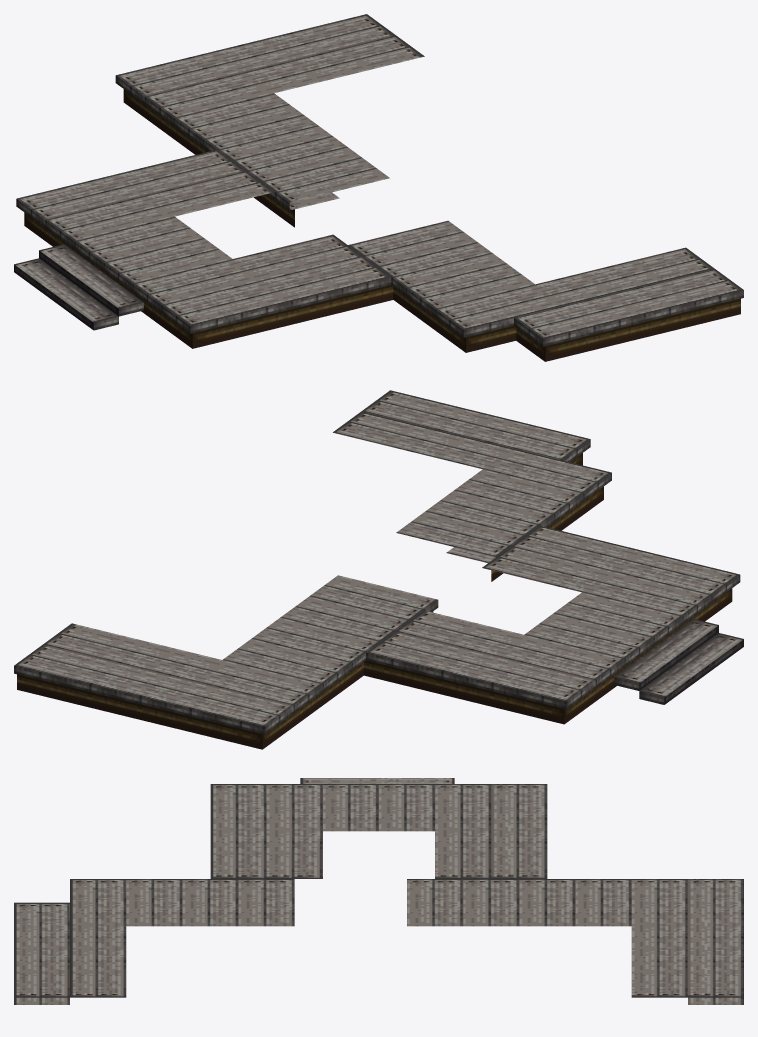
Rendered from EnvBdgMD_Wilderness_A_Outdoor_A_Base.FBX.
3 views of the same model, one above another, from view 1: azimuth 30°, elevation 25°; view 2: azimuth 150°, elevation 25°; view 3: azimuth 270°, elevation 25° (orthographic). The views are drawn at different scales.
Parts seen in each view (by area): view 1: EnvBdgMD_Wilderness_A_Outdoor_A_Base; view 2: EnvBdgMD_Wilderness_A_Outdoor_A_Base; view 3: EnvBdgMD_Wilderness_A_Outdoor_A_Base.
Part boxes in pixels (x1,y1,x2,y2): EnvBdgMD_Wilderness_A_Outdoor_A_Base: (14,14,743,361); EnvBdgMD_Wilderness_A_Outdoor_A_Base: (14,390,743,749); EnvBdgMD_Wilderness_A_Outdoor_A_Base: (14,778,743,1004).
Size of the model in its own units: 1000 by 50 by 1300.
Materials: 1 (1 with a texture image).
